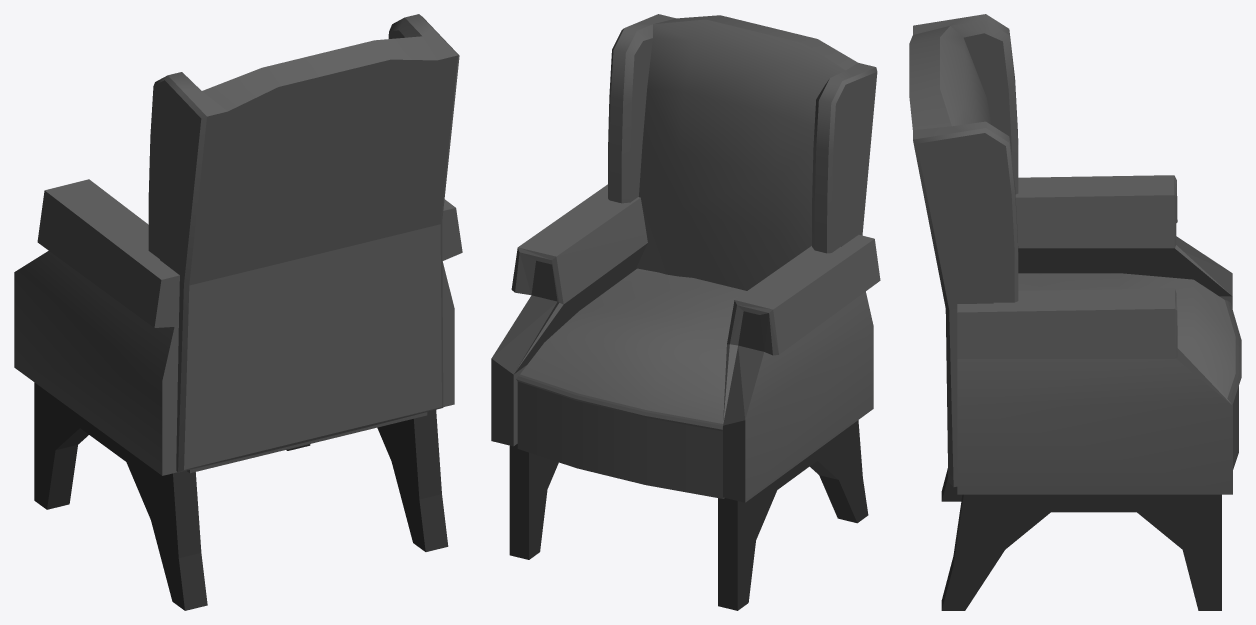
File: chair_E.FBX
3 views of the same model, side by side, from view 1: azimuth 30°, elevation 25°; view 2: azimuth 150°, elevation 25°; view 3: azimuth 270°, elevation 25° (orthographic). The views are drawn at different scales.
Visible parts, largest first — view 1: chair_E; view 2: chair_E; view 3: chair_E.
Part boxes in pixels (box(x1,y1,x2,y2)): chair_E: box(14, 14, 462, 610); chair_E: box(491, 14, 880, 610); chair_E: box(909, 14, 1241, 610).
Size of the model in its own units: 38.99 by 63.47 by 39.17.
